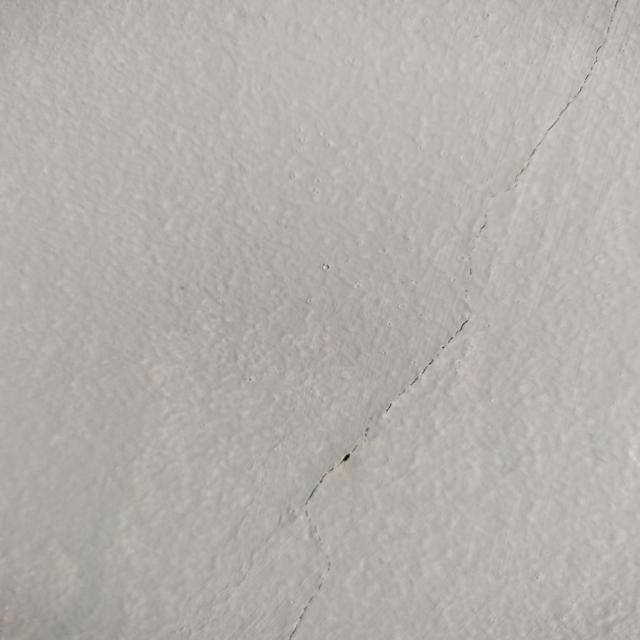Crack: (276, 297, 481, 640)
